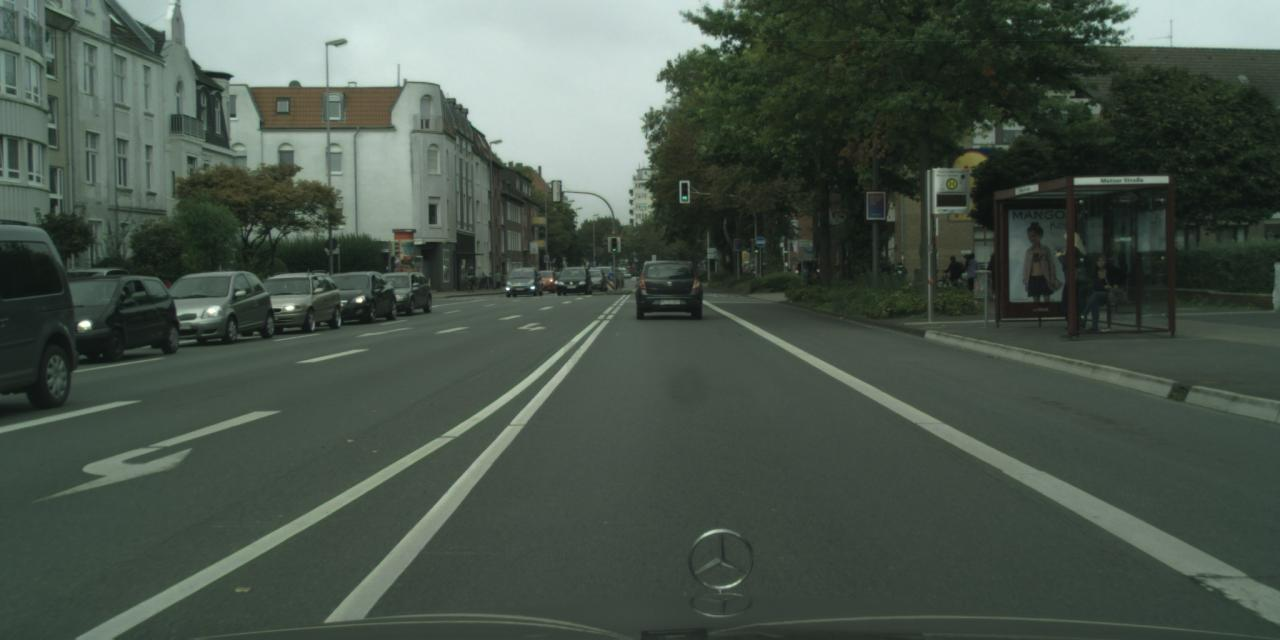ped: (1052, 230, 1092, 332), (986, 252, 1003, 295), (963, 253, 979, 293), (946, 255, 961, 292), (962, 254, 976, 290), (894, 262, 906, 290), (466, 268, 474, 288), (494, 270, 501, 289)
